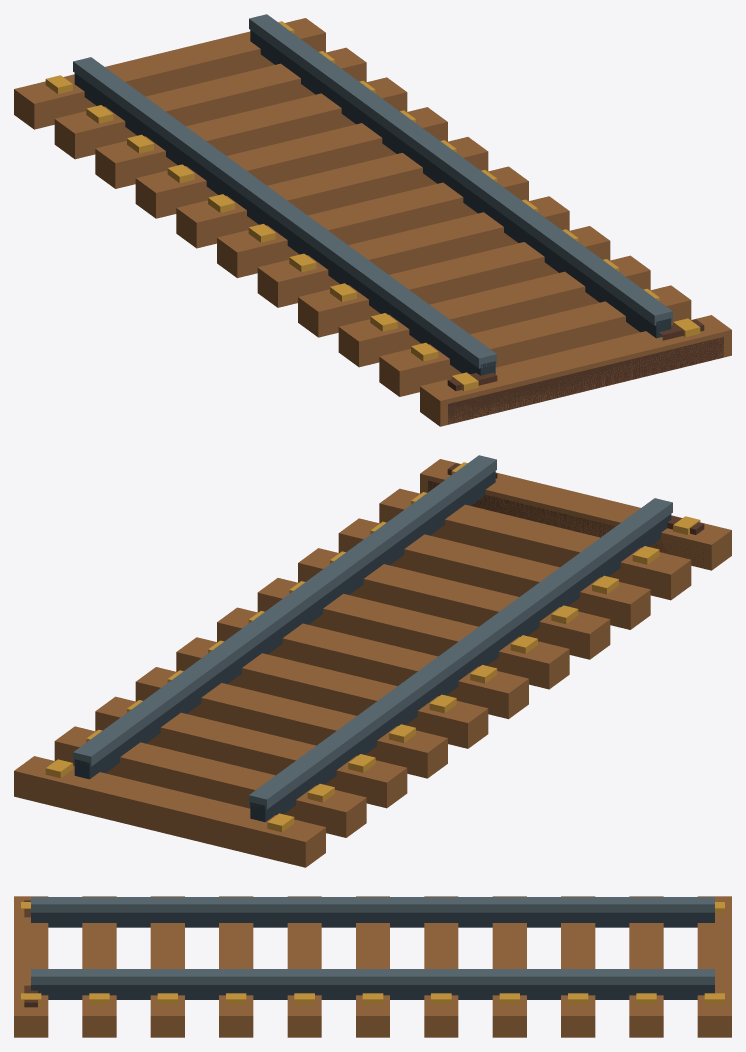
Rendered from rail-straight.glb.
3 renders of one model, top to bottom at view 1: azimuth 30°, elevation 25°; view 2: azimuth 150°, elevation 25°; view 3: azimuth 270°, elevation 25°, orthographic. The views are drawn at different scales.
Visible parts, largest first — view 1: rail-straight; view 2: rail-straight; view 3: rail-straight.
Boxes of the visible parts, bbox=[...] form: rail-straight: bbox=[14, 14, 731, 426]; rail-straight: bbox=[14, 455, 731, 867]; rail-straight: bbox=[14, 896, 731, 1037].
Size of the model in its own units: 1.66 by 0.2655 by 4.2.
